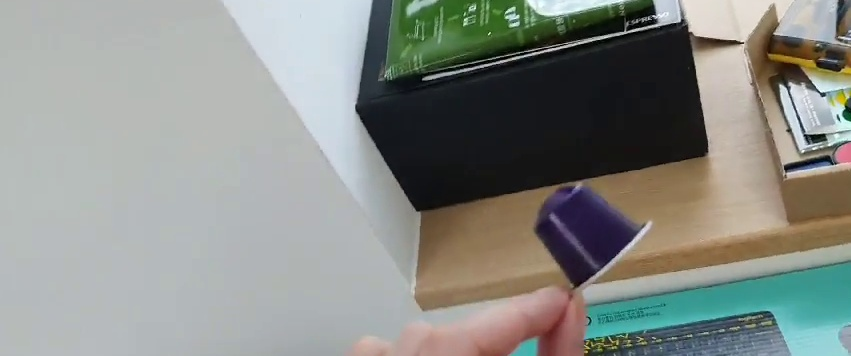capsule_11: (528, 181, 657, 299)
